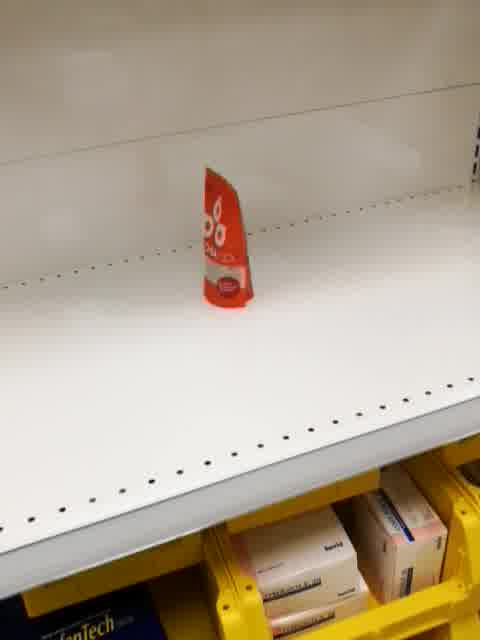whitechia: (199, 161, 260, 312)
